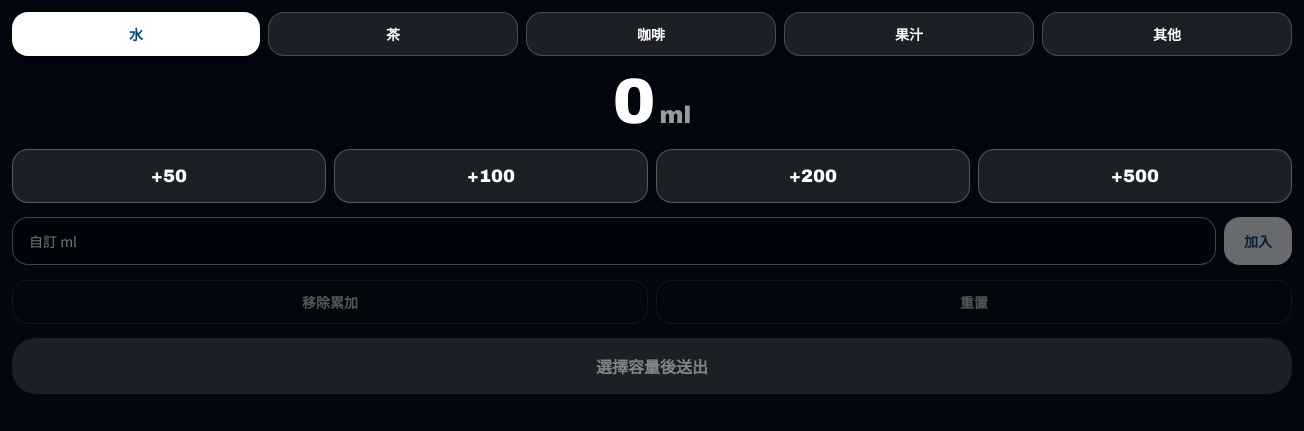
Test: DrinkLogger — backspace › removes last entry on backspace
What coordinates should you click on to do the following:
click the button "+100"
I would click on:
 (491, 176)
Its box is [334, 149, 648, 203].
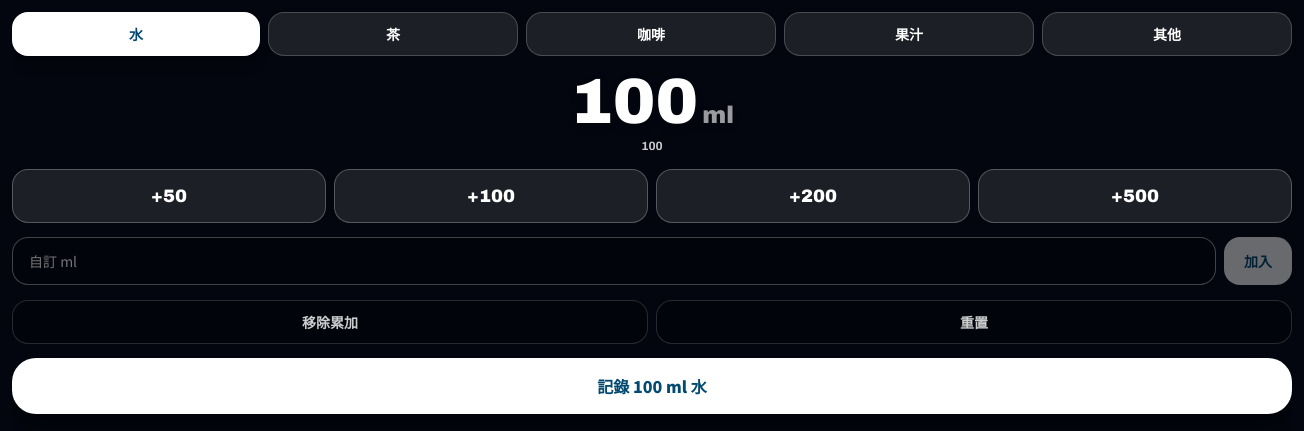
What coordinates should you click on to do the following:
click the button "+50"
I would click on:
 (169, 196)
Its box is [12, 169, 326, 223].
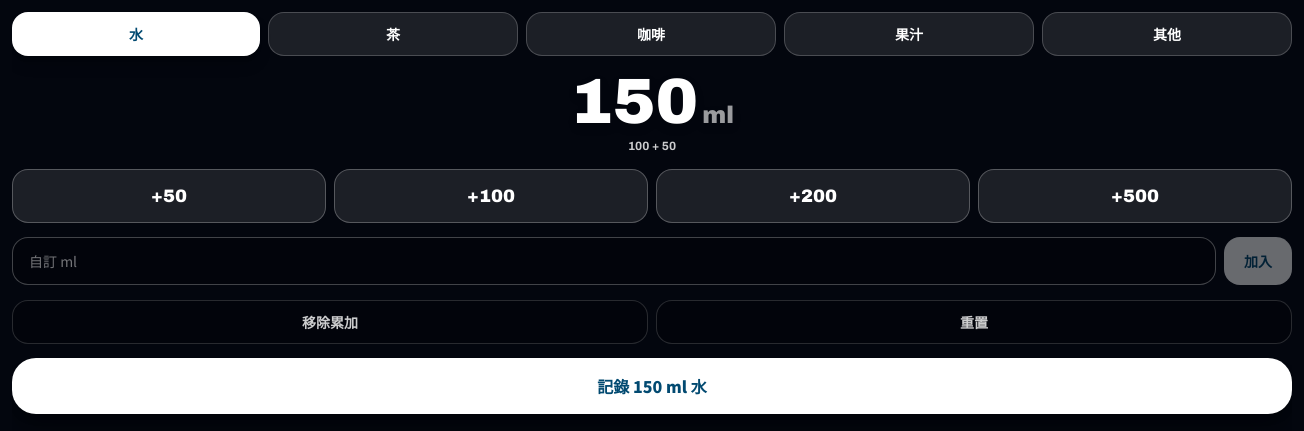
Expected: the element with test id "running-total" shows "150", [570, 67, 698, 136]
What coordinates should you click on to do the following:
click the button with aria-label "← 退格"
I would click on:
 (330, 322)
Its box is [12, 300, 648, 344].
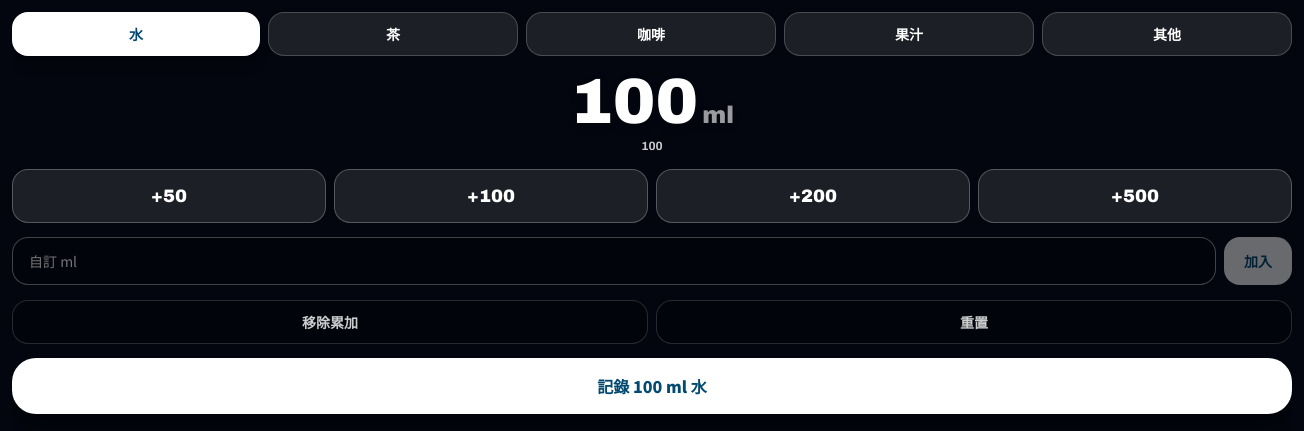
Expected: the element with test id "running-total" shows "100", [570, 67, 698, 136]
